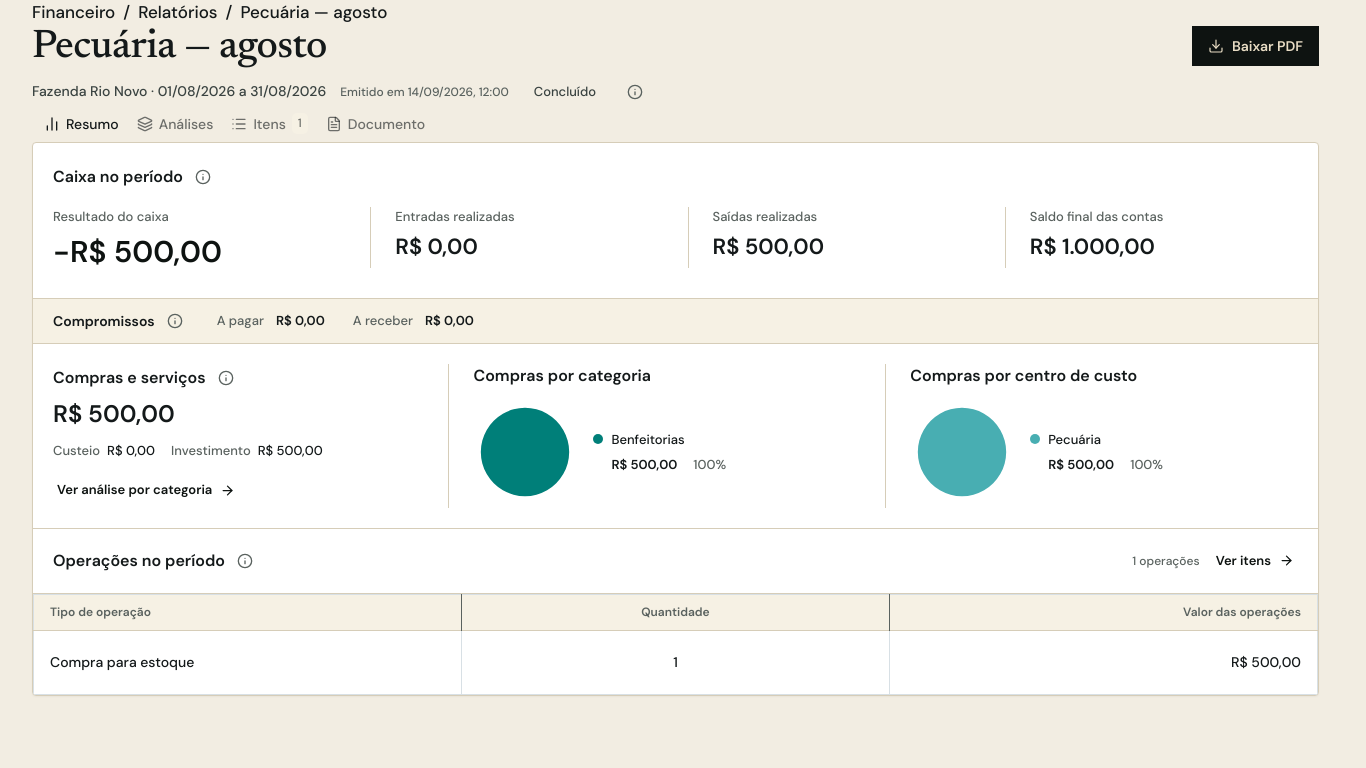
omite filtros vazios nas informações e conserva a leitura da emissão
Click the button named "Informações do relatório". click: [635, 92]
box: [621,78,649,106]
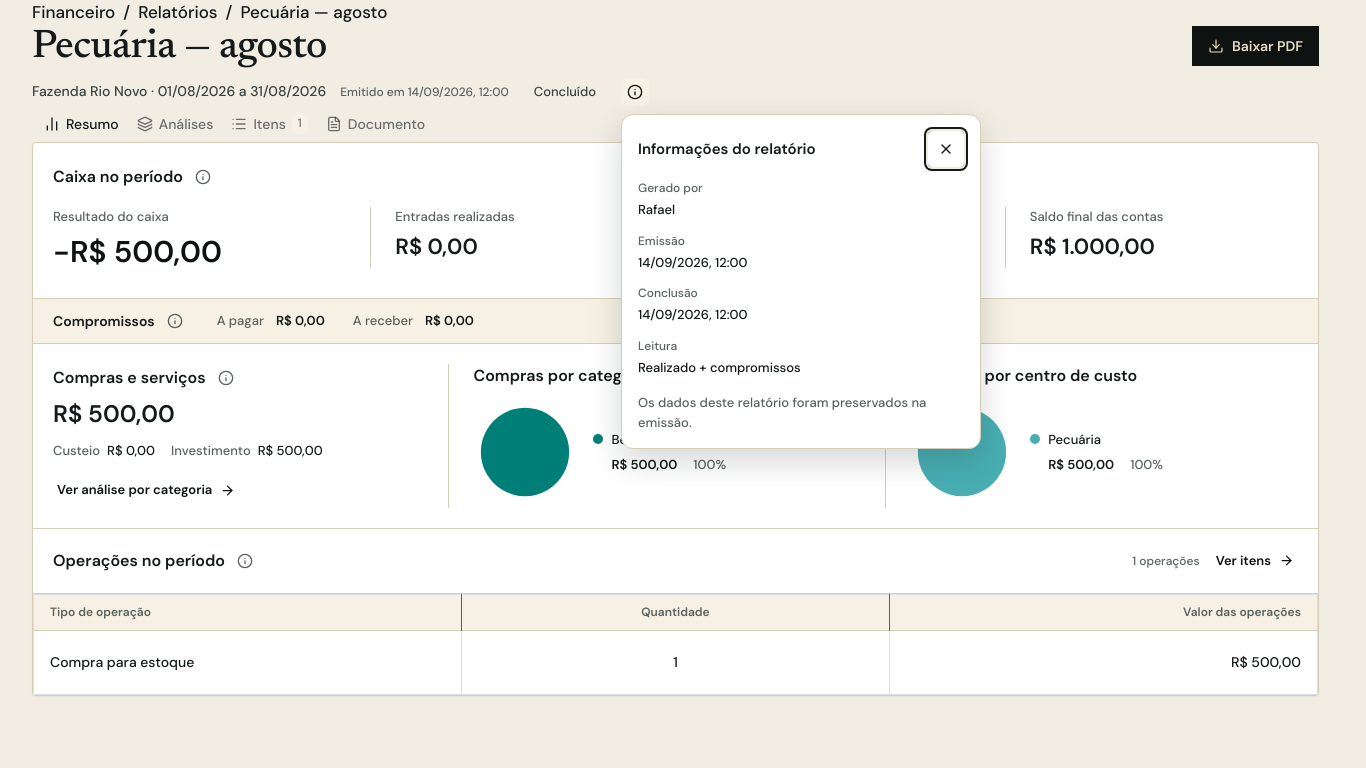
Now the dialog "Informações do relatório" shows "Realizado + compromissos", box [638,358,801,376]
Now the dialog "Informações do relatório" shows "Rafael", box [638,201,675,218]
